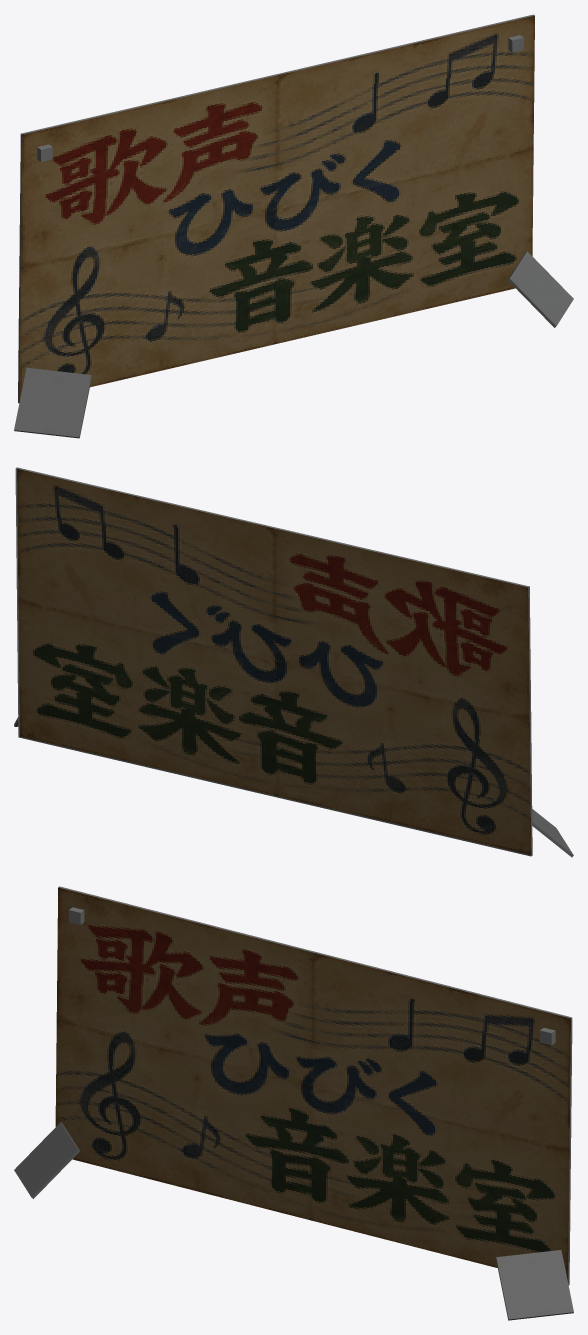
The model's file is prop_poster-ongaku-1.glb.
3 views of the same model, one above another, from view 1: azimuth 30°, elevation 25°; view 2: azimuth 150°, elevation 25°; view 3: azimuth 330°, elevation 25° (orthographic).
Parts seen in each view (by area): view 1: prop_poster-ongaku-1; view 2: prop_poster-ongaku-1; view 3: prop_poster-ongaku-1.
Boxes of the visible parts, left/top/right/bottom form: prop_poster-ongaku-1: left=14, top=14, right=573, bottom=438; prop_poster-ongaku-1: left=14, top=467, right=573, bottom=857; prop_poster-ongaku-1: left=14, top=886, right=573, bottom=1320.
Size of the model in its own units: 0.6709 by 0.3242 by 0.0897.
Materials: 2 (2 with a texture image).
